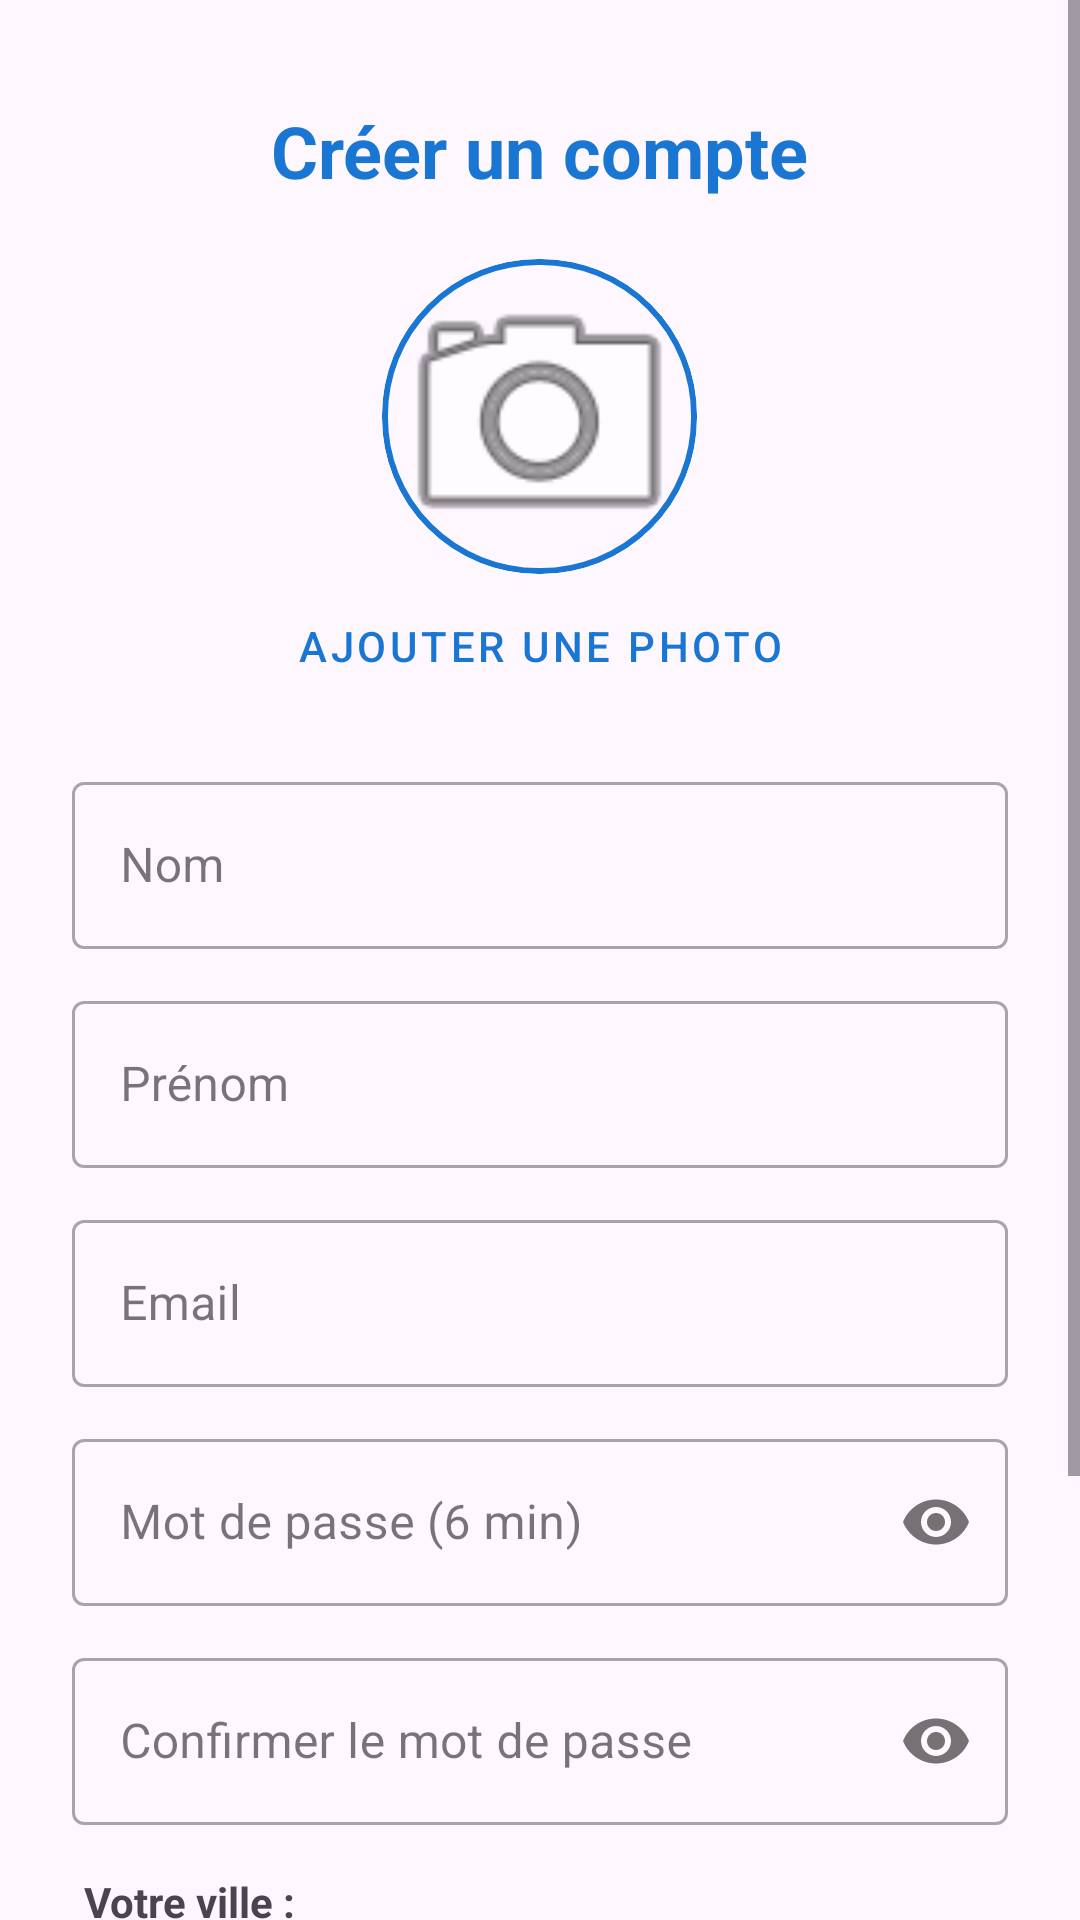

Where to tap for icons on this 1080x1920 app screen, as (x=x, y=y):
camera: (x=539, y=416)
